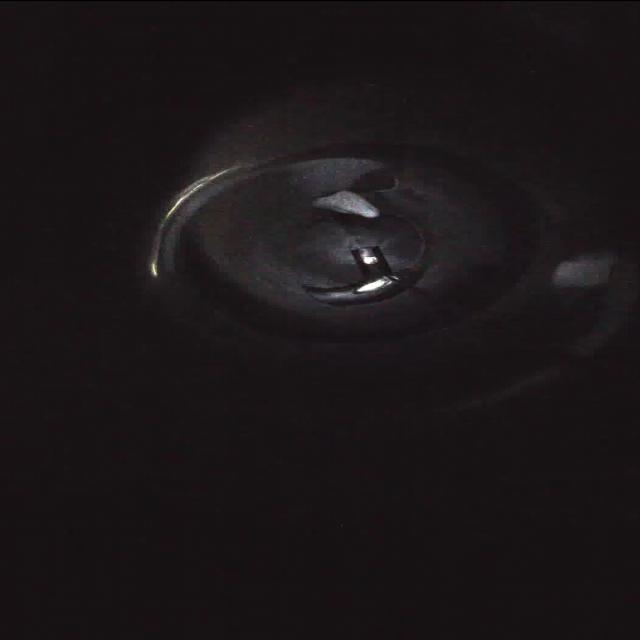impurity: (304, 186, 386, 222)
